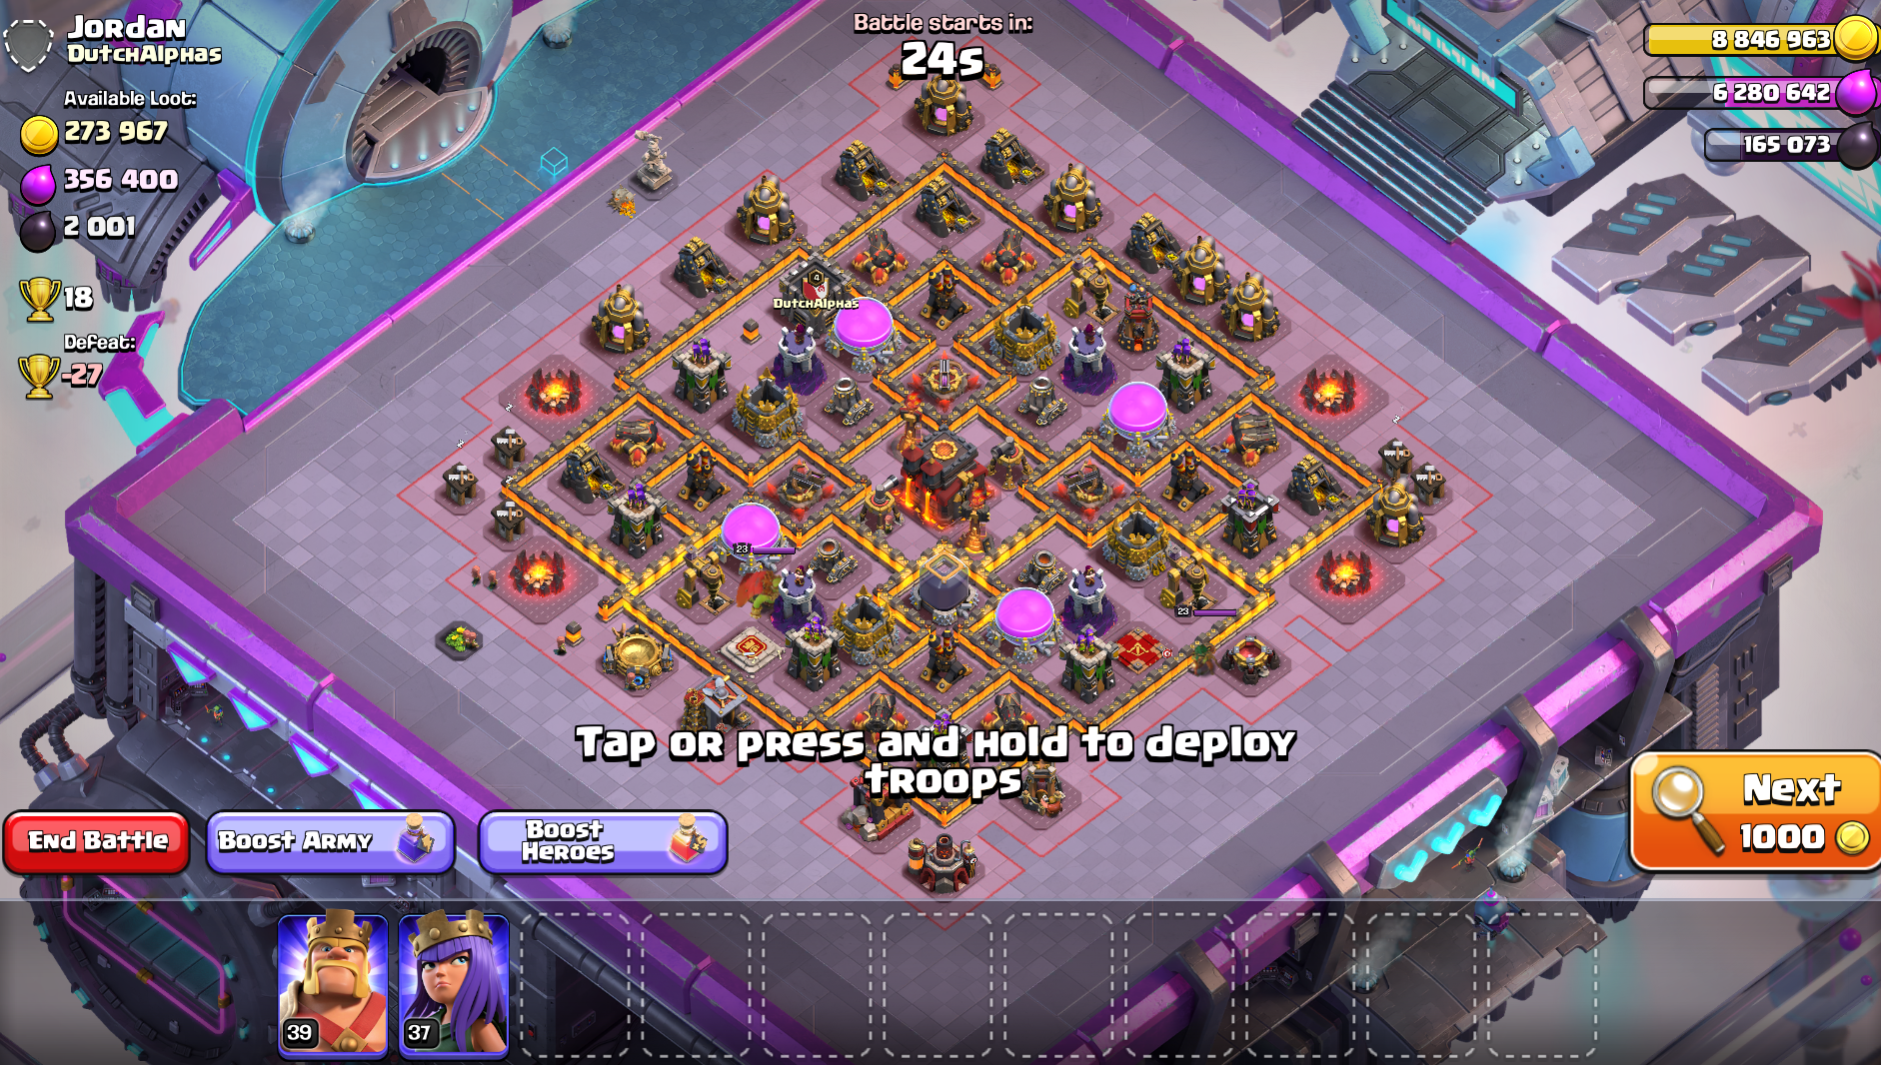dark_elixir_colector: (1150, 544, 1213, 627), (661, 543, 729, 618), (1058, 246, 1119, 328)
elixir_colector: (908, 74, 982, 156), (585, 286, 661, 362), (1035, 156, 1105, 237), (730, 164, 798, 244), (1363, 473, 1428, 552), (1221, 269, 1283, 346), (1170, 229, 1230, 308)
gold_mine: (658, 225, 742, 313), (816, 128, 904, 208), (900, 168, 984, 249), (973, 119, 1052, 203), (548, 436, 624, 516), (1116, 196, 1185, 275)
